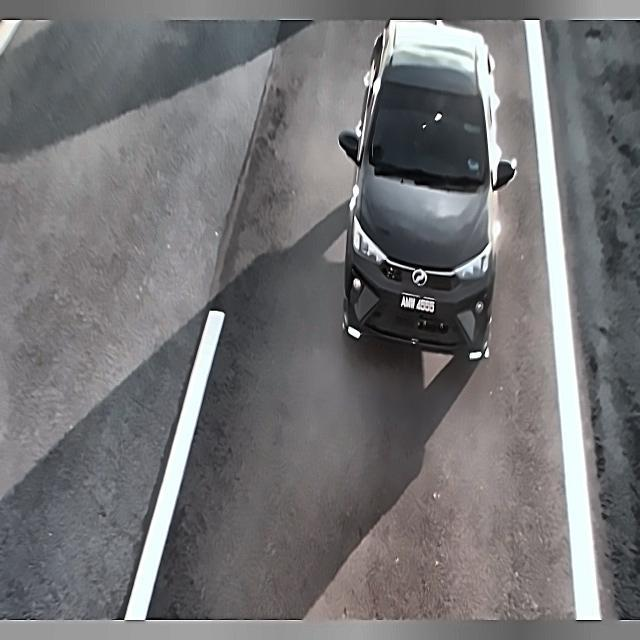car: (394, 288, 444, 318)
